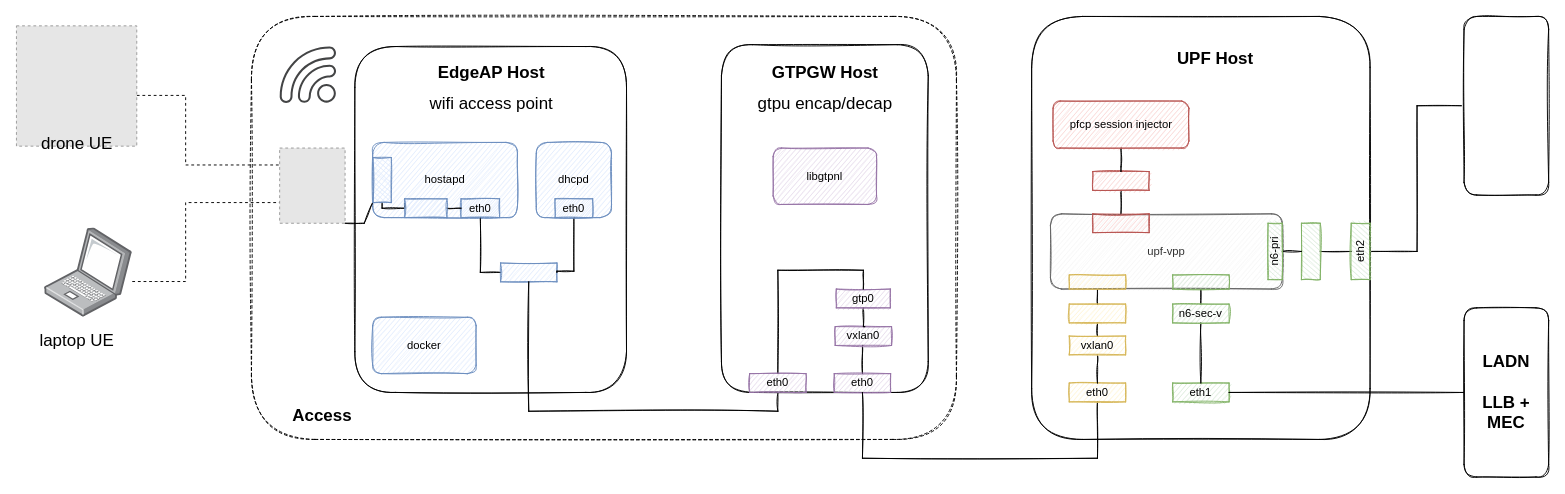
Some shapes in this 1565 by 494 pixel diagram are drawn without their labels. Grey dashed boxes stand in for pictures. Here are the shapes that lost their labels. From the top down, the centre of each, then its label:
point 1506,105: DN (internet)
point 381,180: wlan0
point 1120,180: n4-veth
point 425,208: br0
point 1120,223: n4
point 1310,251: n6-pri-v
point 528,272: br-xxxx
point 1097,281: n3
point 1200,281: n6-sec
point 1097,313: n3-veth
